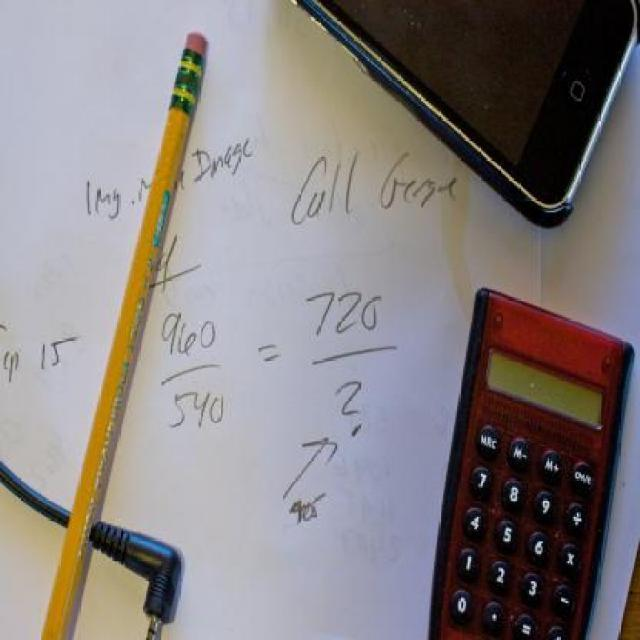phone: (289, 0, 640, 215)
